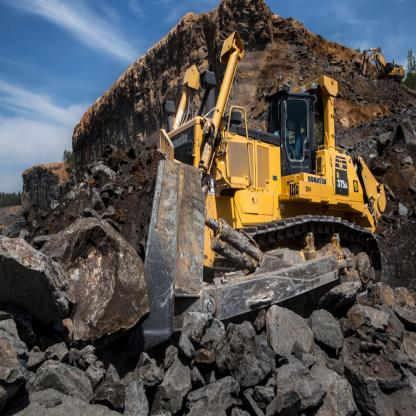bull_dozer/loader/grader: (91, 23, 397, 361)
